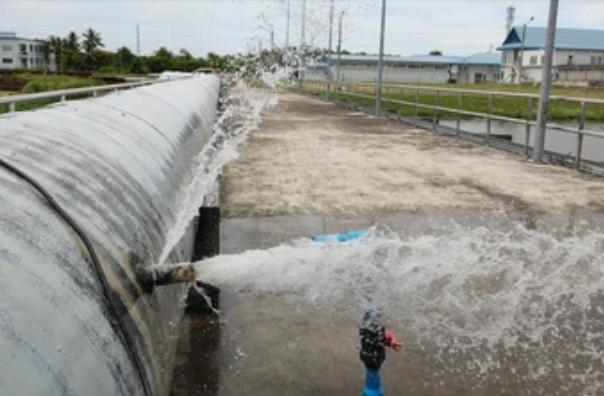pipe burst: (190, 228, 604, 396), (153, 0, 357, 264)
